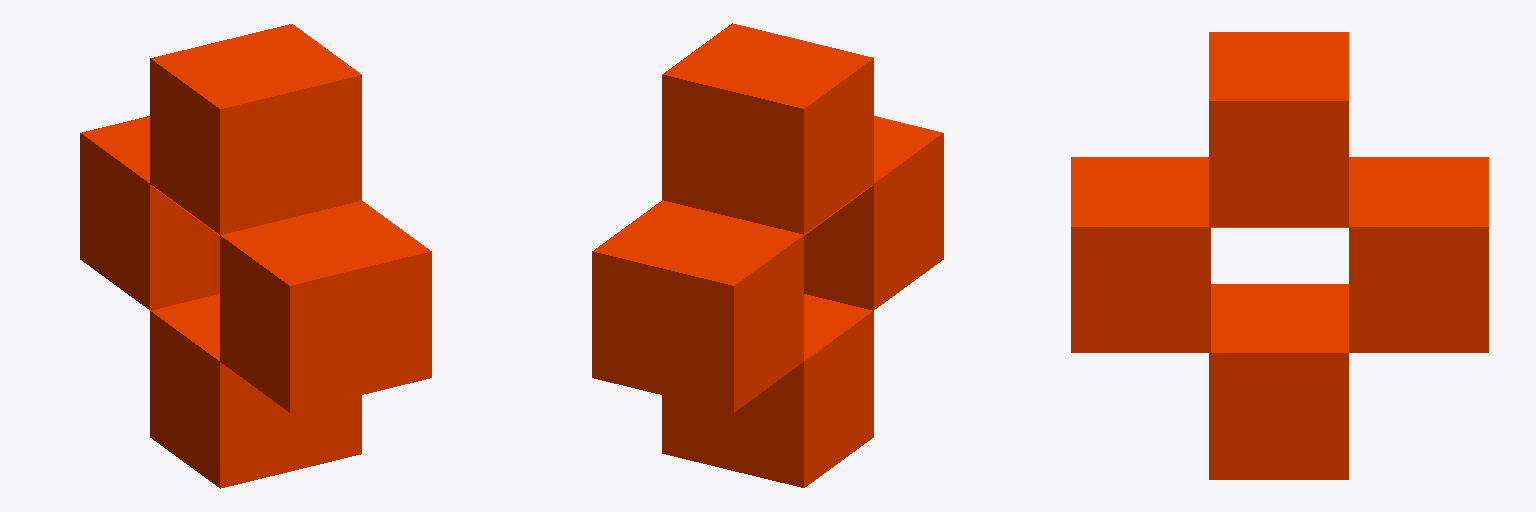
File: uncommon.obj
3 renders of one model, left to right at view 1: azimuth 30°, elevation 25°; view 2: azimuth 150°, elevation 25°; view 3: azimuth 270°, elevation 25°, orthographic.
Parts seen in each view (by area): view 1: Curve.006_Curve.016; view 2: Curve.006_Curve.016; view 3: Curve.006_Curve.016.
Boxes of the visible parts, box(x1,y1,x2,y2) form: Curve.006_Curve.016: box(80, 24, 431, 488); Curve.006_Curve.016: box(592, 23, 943, 487); Curve.006_Curve.016: box(1071, 32, 1488, 479).
Size of the model in its own units: 0.4 by 1.02 by 1.02.